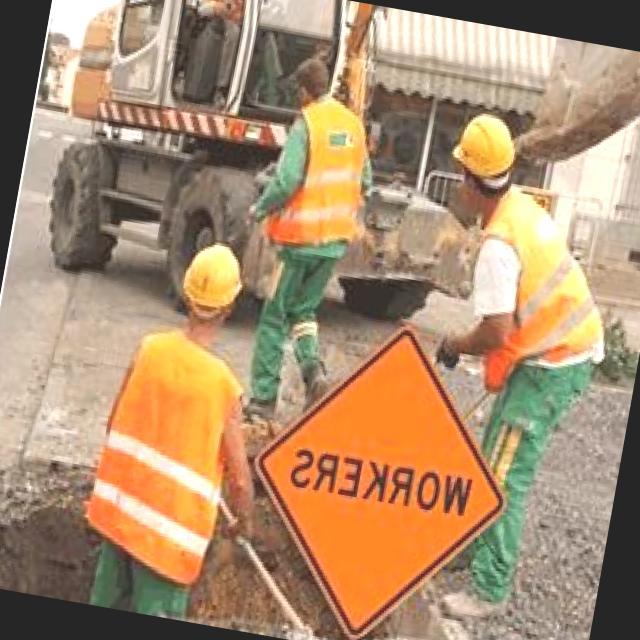helmet: (450, 106, 524, 186), (182, 241, 246, 316)
no-helmet: (284, 50, 338, 111)
vest: (81, 317, 247, 568), (470, 192, 620, 372), (268, 96, 364, 255)
